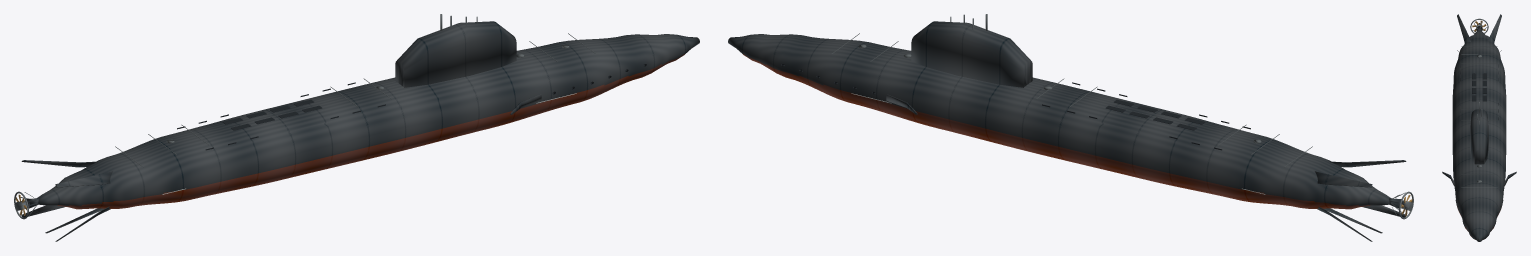
Rendered from RU_SSN_Yasen_LOD1.fbx.
3 renders of one model, left to right at view 1: azimuth 30°, elevation 25°; view 2: azimuth 150°, elevation 25°; view 3: azimuth 270°, elevation 25°, orthographic. The views are drawn at different scales.
Parts seen in each view (by area): view 1: RU_SSN_Yasen_LOD1; view 2: RU_SSN_Yasen_LOD1; view 3: RU_SSN_Yasen_LOD1.
Boxes of the visible parts, bbox=[...] form: RU_SSN_Yasen_LOD1: bbox=[14, 14, 699, 241]; RU_SSN_Yasen_LOD1: bbox=[728, 14, 1413, 241]; RU_SSN_Yasen_LOD1: bbox=[1442, 14, 1516, 241].
Size of the model in its own units: 123 by 18 by 21.15.
